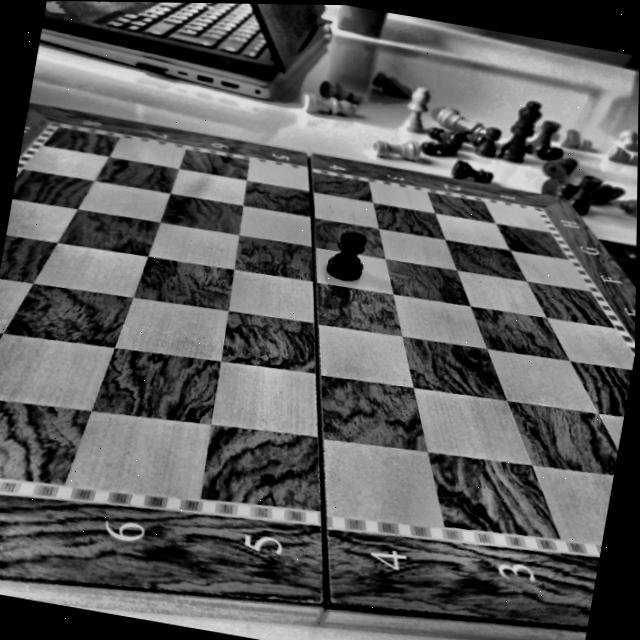black-pawn: (321, 222, 379, 291)
